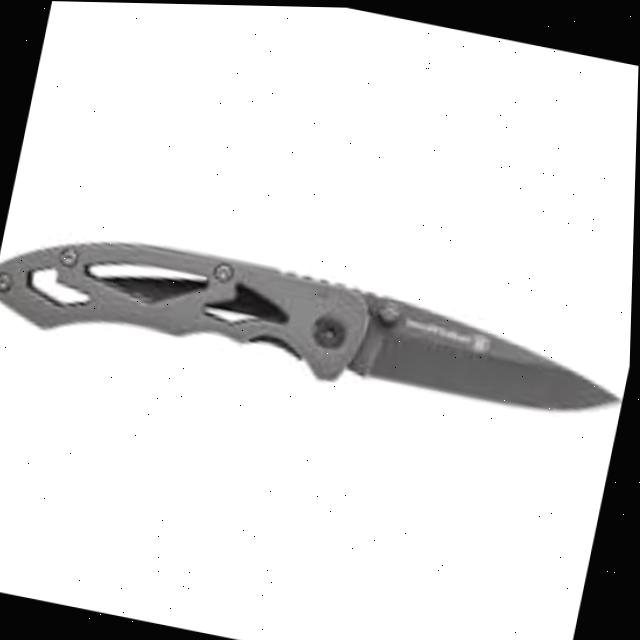knife: (0, 211, 635, 440)
